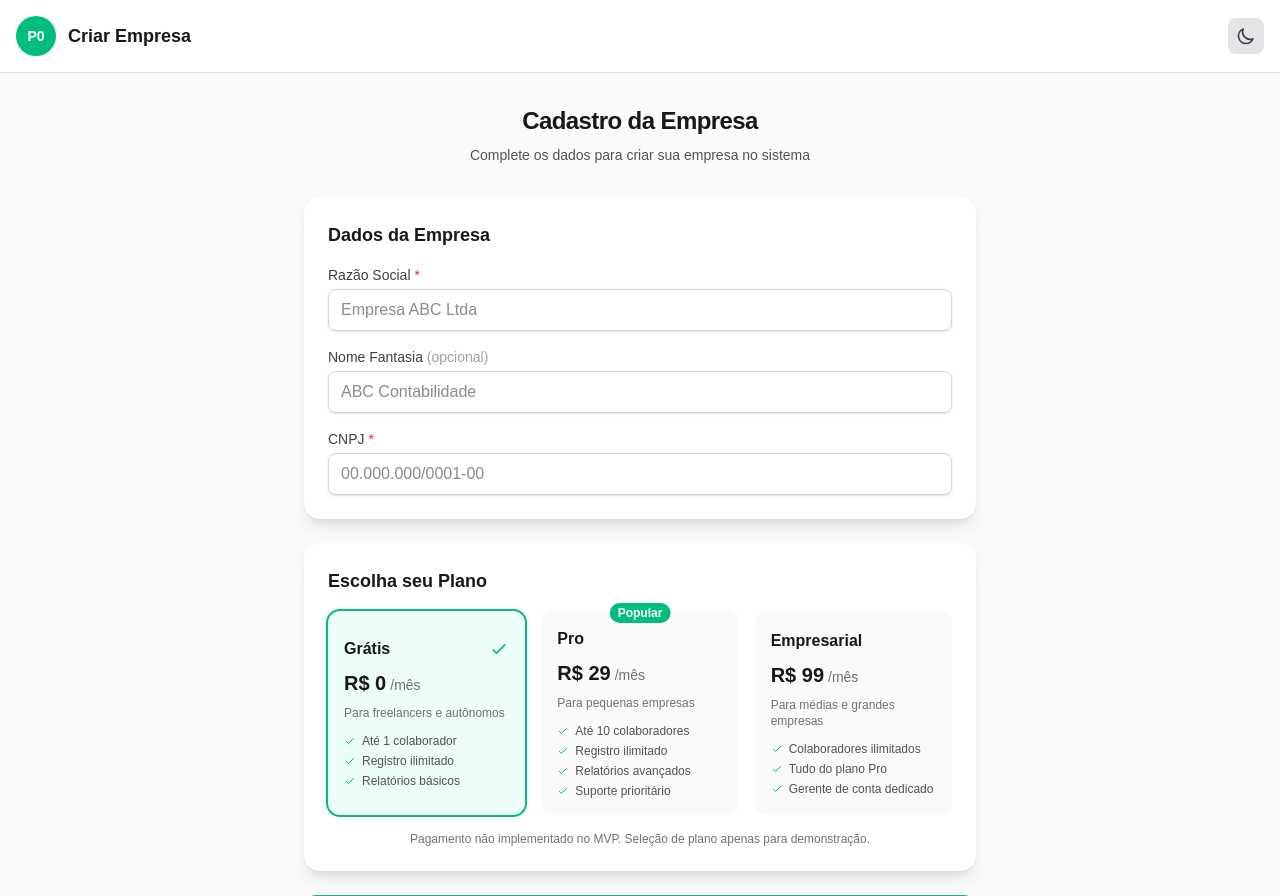
Test: Company Onboarding Page › shows error on company creation failure
Type "Empresa Teste" into the field labelled "Razão Social *".
click(640, 310); type("Empresa Teste")  # box [328,289,952,331]
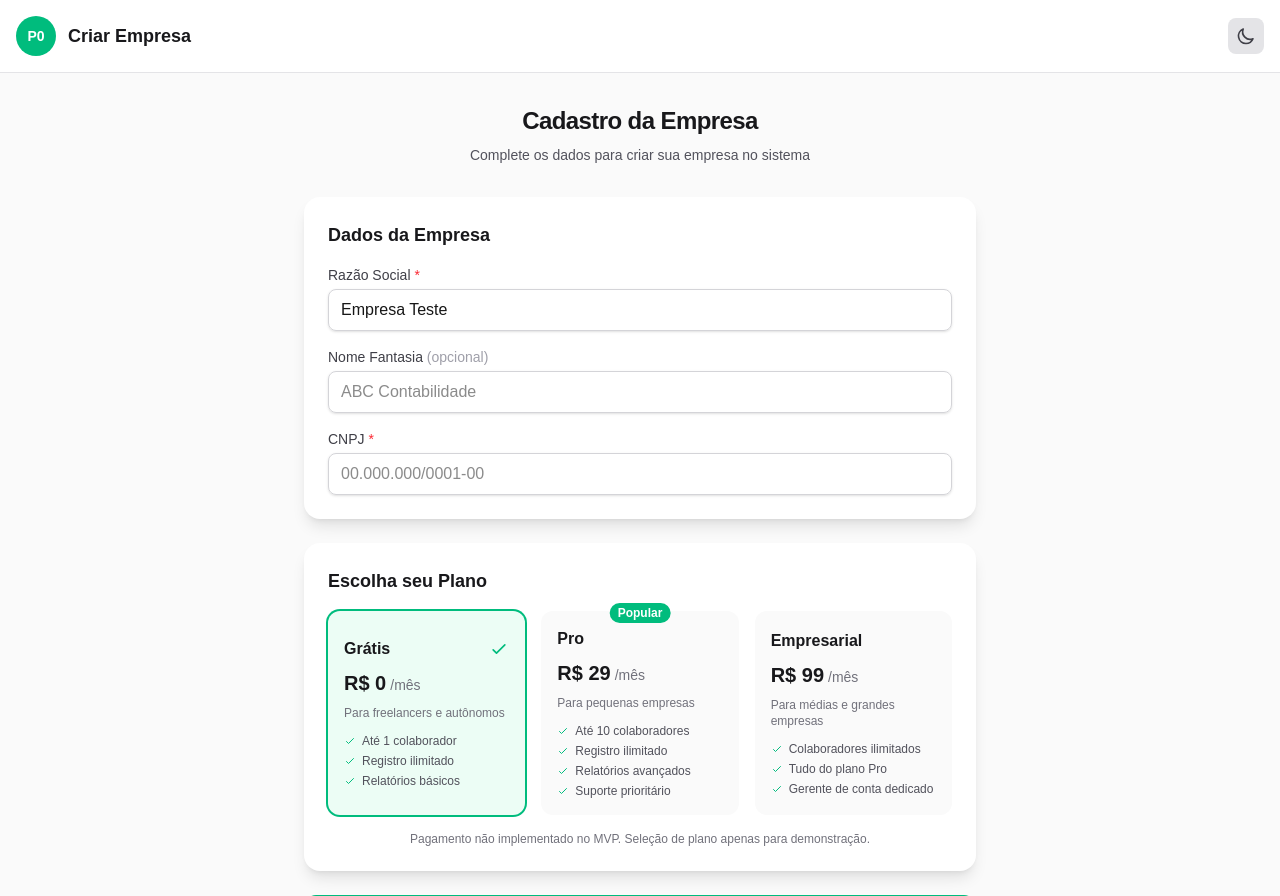
Type "12345678000199" into the field labelled "CNPJ *".
click(640, 474); type("12345678000199")  # box [328,453,952,495]
(page scrolled)
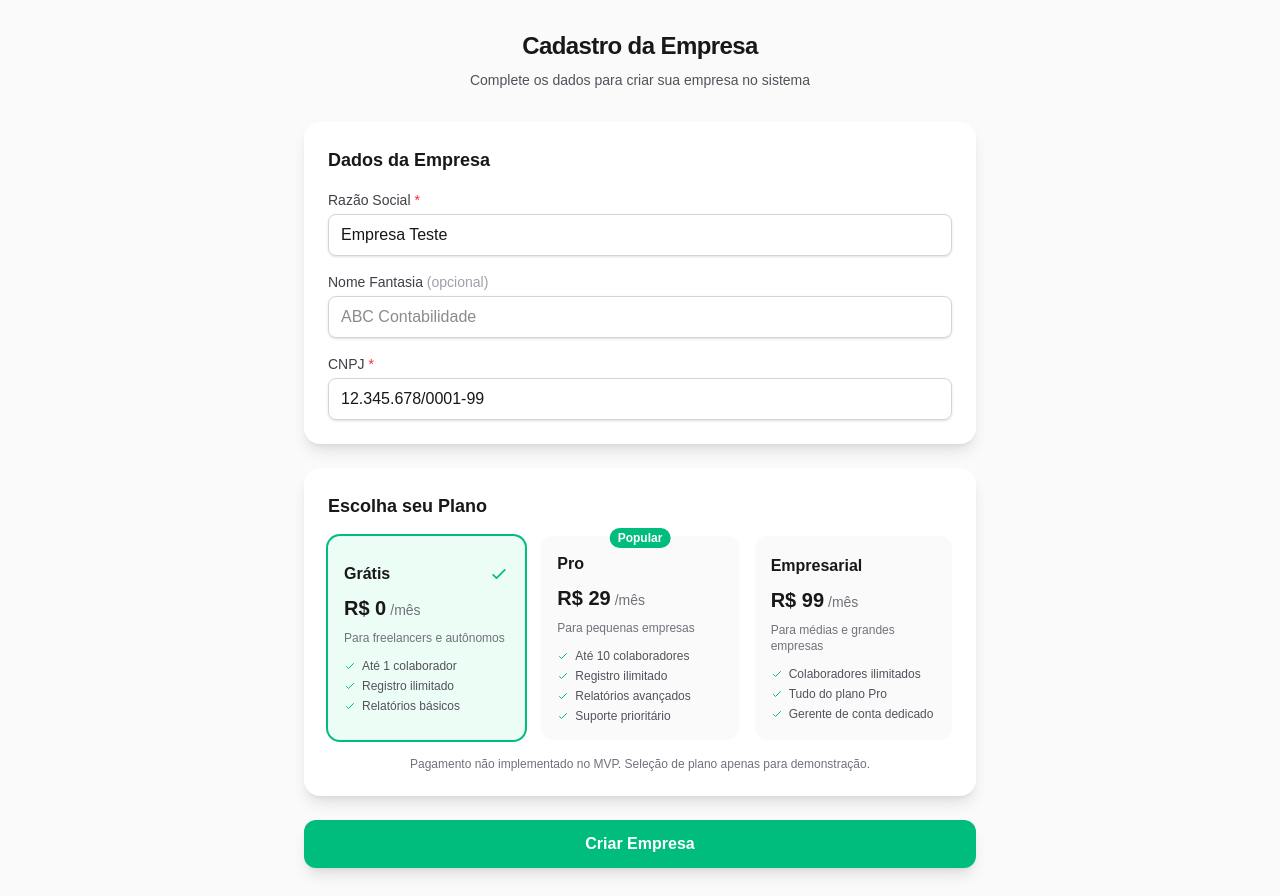
Click the button "Criar Empresa".
click(640, 844)  # box [304,820,976,868]
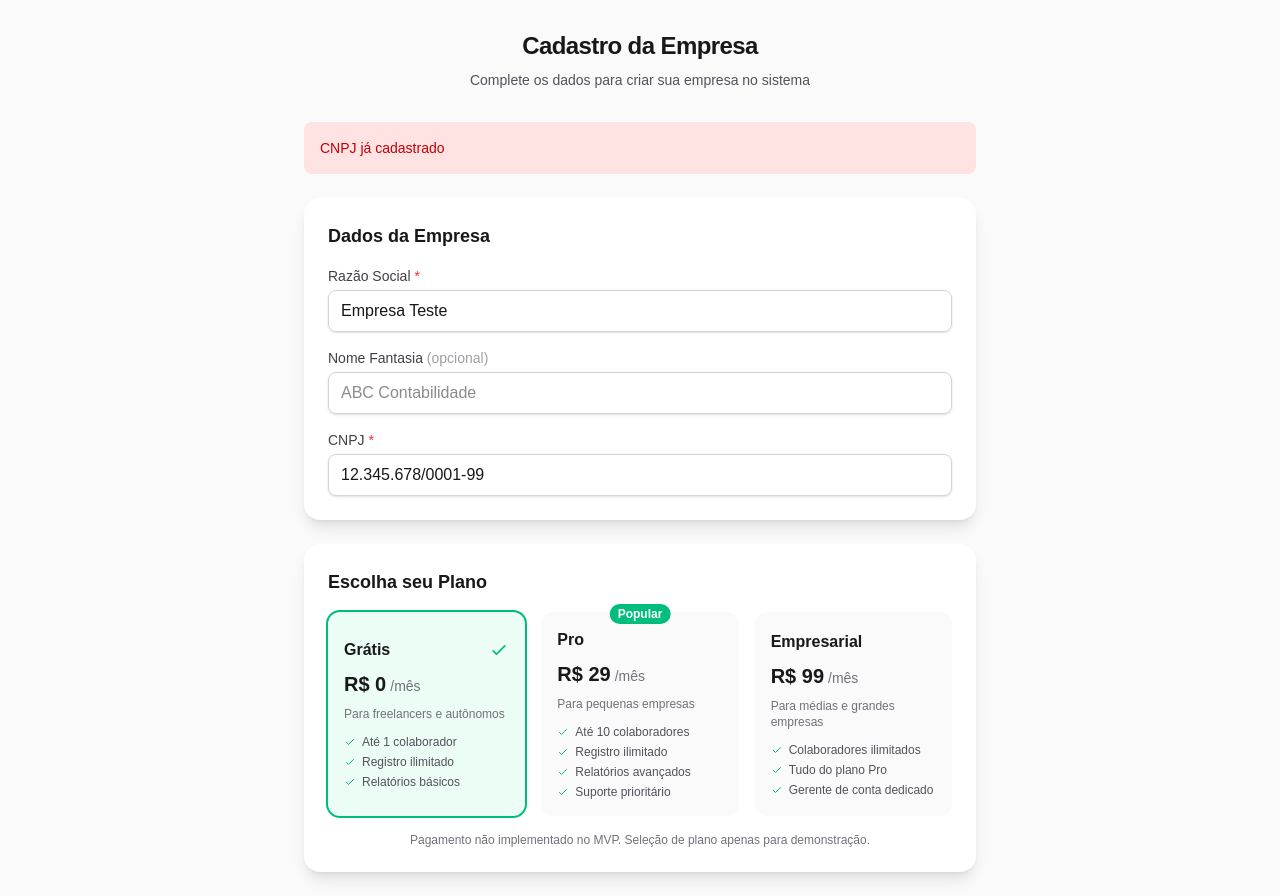
Check: the text "CNPJ já cadastrado" is shown, box [304,122,976,174]
